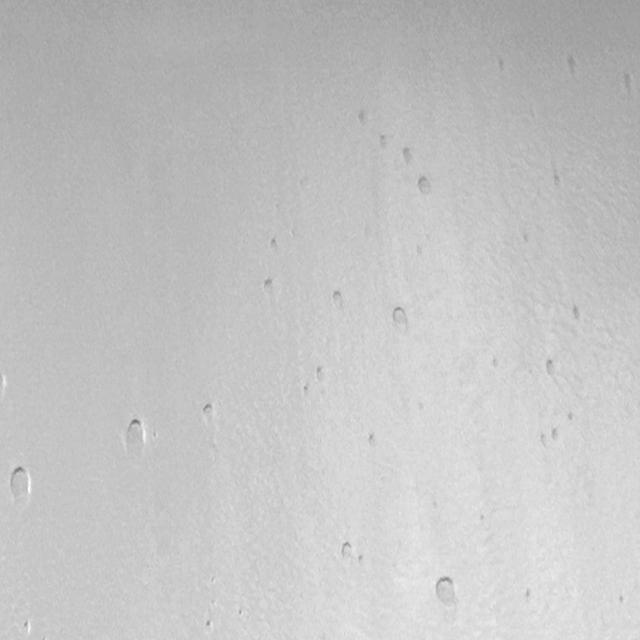pin holes: (6, 462, 33, 505), (122, 416, 151, 456), (433, 574, 458, 608), (618, 70, 638, 101), (388, 306, 410, 334), (564, 53, 584, 79), (415, 176, 436, 200), (398, 146, 418, 171), (338, 538, 358, 562), (542, 358, 562, 382), (568, 302, 586, 326), (493, 54, 511, 77), (312, 362, 328, 387), (376, 132, 394, 154), (330, 290, 346, 314), (200, 402, 217, 424), (550, 170, 566, 193), (261, 275, 278, 295), (357, 109, 373, 130), (266, 235, 282, 253), (549, 426, 563, 446), (1, 369, 11, 396), (366, 431, 381, 449), (522, 586, 535, 605), (357, 552, 370, 570), (616, 591, 630, 607), (20, 619, 33, 636), (202, 618, 215, 634), (417, 399, 428, 417), (566, 411, 579, 425), (540, 432, 549, 452), (521, 231, 532, 247), (302, 381, 312, 398), (478, 511, 486, 528), (236, 608, 247, 620), (492, 357, 502, 370)
